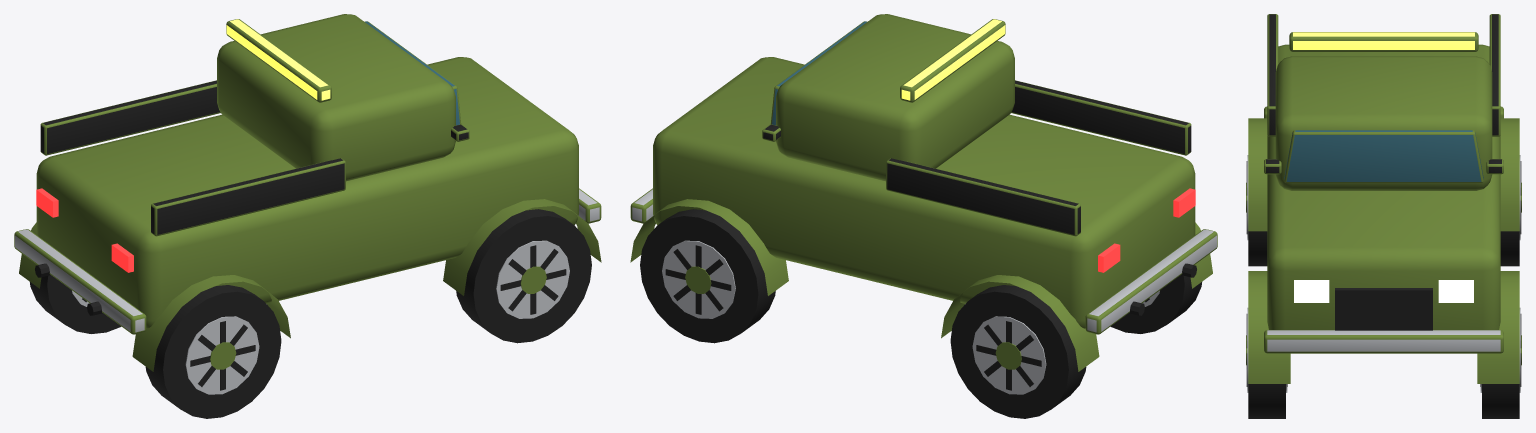
Rendered from cactus-jack.glb.
3 views of the same model, side by side, from view 1: azimuth 30°, elevation 25°; view 2: azimuth 150°, elevation 25°; view 3: azimuth 270°, elevation 25° (orthographic).
Parts seen in each view (by area): view 1: body, wheel_FR, wheel_RR, wheel_RL; view 2: body, wheel_FL, wheel_RL, wheel_RR; view 3: body, wheel_FL, wheel_FR, wheel_RL, wheel_RR.
Part boxes in pixels (x1=…): body: x1=14, y1=14, x2=601, y2=371; wheel_FR: x1=456, y1=209, x2=591, y2=343; wheel_RR: x1=145, y1=285, x2=281, y2=418; wheel_RL: x1=30, y1=275, x2=121, y2=333; body: x1=630, y1=14, x2=1217, y2=371; wheel_FL: x1=640, y1=209, x2=775, y2=343; wheel_RL: x1=950, y1=285, x2=1086, y2=418; wheel_RR: x1=1110, y1=275, x2=1201, y2=333; body: x1=1248, y1=14, x2=1519, y2=383; wheel_FL: x1=1480, y1=307, x2=1521, y2=418; wheel_FR: x1=1246, y1=307, x2=1287, y2=418; wheel_RL: x1=1500, y1=155, x2=1521, y2=266; wheel_RR: x1=1246, y1=155, x2=1267, y2=266.
Size of the model in its own units: 5.01 by 2.85 by 2.48.
